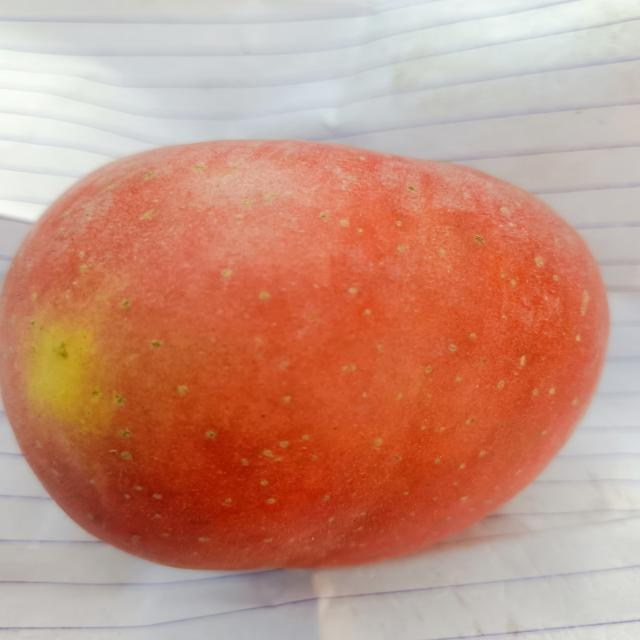Fresh Apple: (1, 143, 612, 571)
